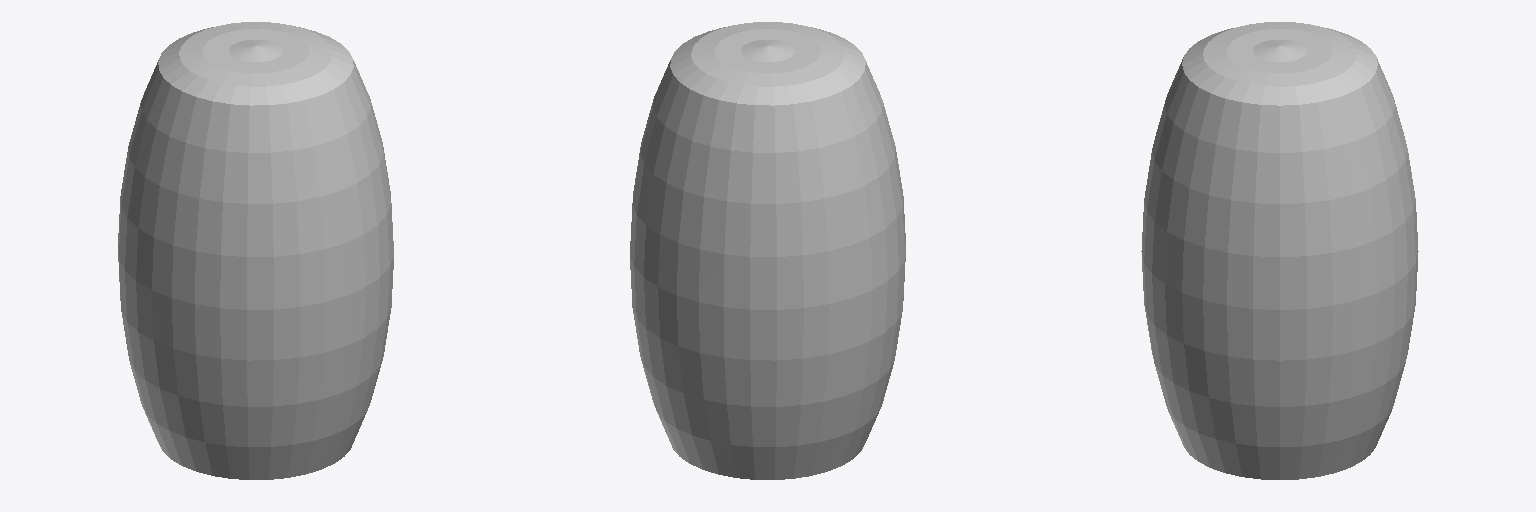
Rendered from Lamp1.obj.
The picture shows the model from 3 angles: view 1: azimuth 30°, elevation 25°; view 2: azimuth 150°, elevation 25°; view 3: azimuth 270°, elevation 25°; orthographic projection.
Visible parts, largest first — view 1: Lamp1; view 2: Lamp1; view 3: Lamp1.
Boxes of the visible parts, <box> form: Lamp1: <box>118,22,393,479</box>; Lamp1: <box>630,22,905,479</box>; Lamp1: <box>1141,22,1418,479</box>.
Size of the model in its own units: 0.3786 by 0.6337 by 0.3786.